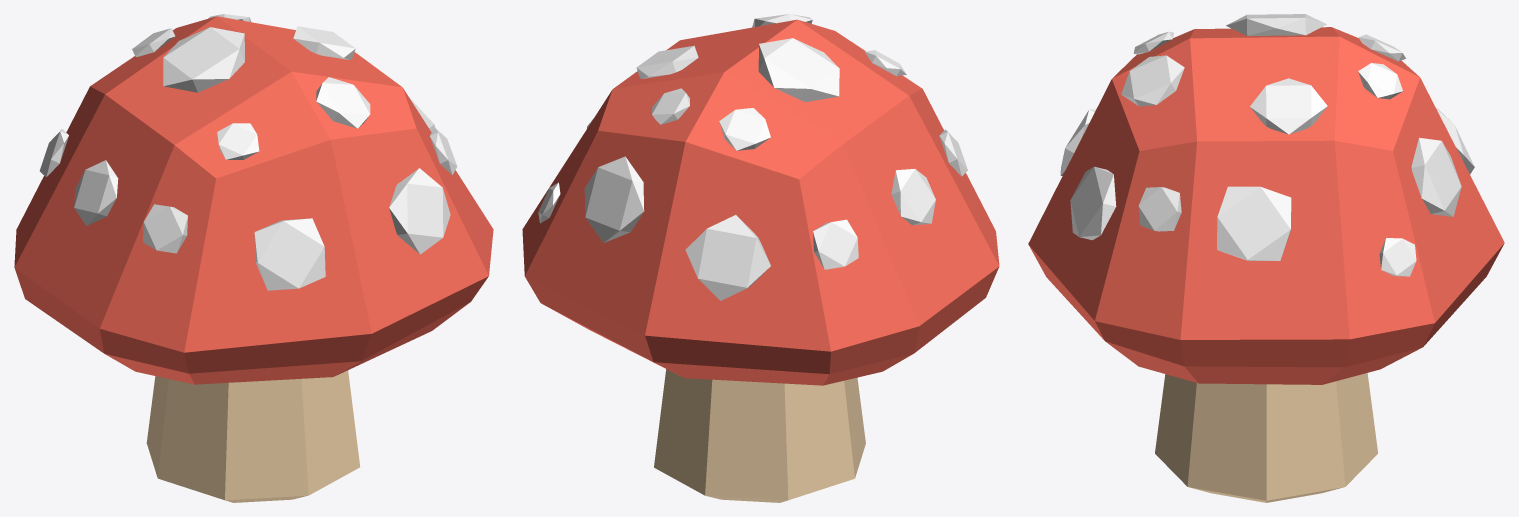
The model's file is Mushroom.fbx.
3 renders of one model, left to right at view 1: azimuth 30°, elevation 25°; view 2: azimuth 150°, elevation 25°; view 3: azimuth 270°, elevation 25°, orthographic.
Parts seen in each view (by area): view 1: cap, stalk, scale_7, scale_1, scale_12, scale_5, scale_11, scale_10, scale_2, scale_6, scale_9, scale_13 (+1 smaller); view 2: cap, stalk, scale_3, scale_1, scale_16, scale_5, scale_9, scale_8, scale_2, scale_4, scale_10; view 3: cap, stalk, scale_14, scale_2, scale_16, scale_12, scale_11, scale_1, scale_13, scale_15, scale_4, scale_7 (+2 smaller).
Boxes of the visible parts, x1,y1,x2,y2 form: cap: (14,16,493,384); stalk: (146,370,360,502); scale_7: (254,218,325,290); scale_1: (163,27,244,92); scale_12: (389,168,450,254); scale_5: (74,160,118,225); scale_11: (316,77,370,128); scale_10: (143,204,187,253); scale_2: (293,26,355,59); scale_6: (217,123,259,159); scale_9: (39,129,68,177); scale_13: (430,127,457,175); cap: (522,19,999,385); stalk: (654,369,865,502); scale_3: (685,215,770,300); scale_1: (758,38,839,102); scale_16: (584,156,644,242); scale_5: (891,169,935,225); scale_9: (813,219,858,269); scale_8: (719,108,770,150); scale_2: (636,45,698,78); scale_4: (652,88,689,124); scale_10: (939,129,967,176); cap: (1028,27,1504,384); stalk: (1155,373,1378,502); scale_14: (1217,186,1291,260); scale_2: (1250,78,1327,134); scale_16: (1411,137,1461,216); scale_12: (1070,166,1116,240); scale_11: (1121,55,1184,106); scale_1: (1226,14,1326,35); scale_13: (1138,187,1181,231); scale_15: (1379,238,1416,276); scale_4: (1358,63,1402,99); scale_7: (1060,109,1096,175).
Size of the model in its own units: 5.4 by 5.83 by 5.55.
